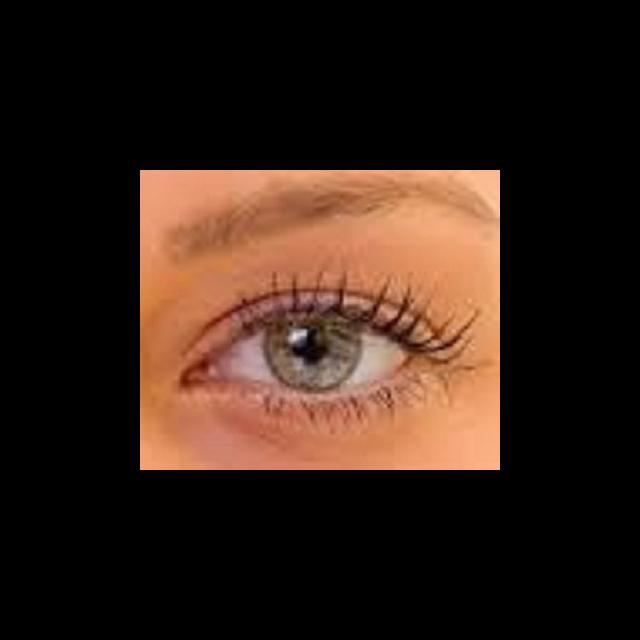eye: (215, 314, 410, 390)
iris: (264, 315, 362, 388)
